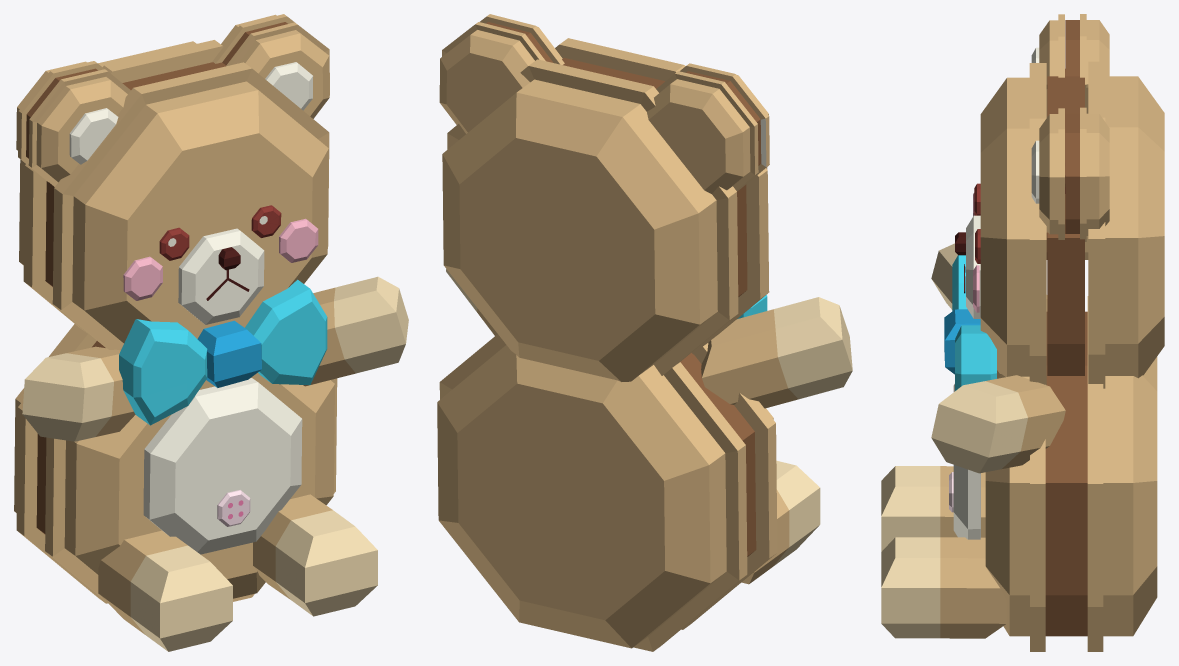
Rendered from st1_2 block.fbx.
The picture shows the model from 3 angles, left to right: view 1: azimuth 30°, elevation 25°; view 2: azimuth 150°, elevation 25°; view 3: azimuth 270°, elevation 25°; orthographic projection. The views are drawn at different scales.
Visible parts, largest first — view 1: st1_2_block, st1_2_block_ribon, st1_2_block_L_leg, st1_2_block_R_leg, st1_2_block_R_ear, st1_2_block_L_arm, st1_2_block_R_arm, st1_2_block_L_ear, st1_2_block_head_ad1, st1_2_block_L_head_ad2, st1_2_block_R_head_ad2, st1_2_block__body_ad2 (+2 smaller); view 2: st1_2_block, st1_2_block_L_arm, st1_2_block_R_ear, st1_2_block_L_ear, st1_2_block_L_leg; view 3: st1_2_block, st1_2_block_R_leg, st1_2_block_R_arm, st1_2_block_L_ear, st1_2_block_L_leg, st1_2_block_R_ear, st1_2_block_ribon, st1_2_block_L_arm, st1_2_block_head_ad1.
Boxes of the visible parts, left/top/right/bottom form: st1_2_block: left=14, top=40, right=337, bottom=603; st1_2_block_ribon: left=119, top=279, right=327, bottom=425; st1_2_block_L_leg: left=98, top=530, right=232, bottom=651; st1_2_block_R_leg: left=253, top=494, right=377, bottom=616; st1_2_block_R_ear: left=16, top=61, right=130, bottom=186; st1_2_block_L_arm: left=22, top=346, right=135, bottom=441; st1_2_block_R_arm: left=303, top=276, right=408, bottom=386; st1_2_block_L_ear: left=212, top=14, right=329, bottom=118; st1_2_block_head_ad1: left=178, top=228, right=264, bottom=324; st1_2_block_L_head_ad2: left=123, top=256, right=162, bottom=300; st1_2_block_R_head_ad2: left=279, top=218, right=318, bottom=262; st1_2_block__body_ad2: left=217, top=490, right=250, bottom=526; st1_2_block: left=437, top=38, right=777, bottom=651; st1_2_block_L_arm: left=701, top=297, right=852, bottom=408; st1_2_block_R_ear: left=647, top=63, right=769, bottom=193; st1_2_block_L_ear: left=439, top=14, right=564, bottom=133; st1_2_block_L_leg: left=741, top=460, right=820, bottom=584; st1_2_block: left=953, top=61, right=1164, bottom=651; st1_2_block_R_leg: left=881, top=537, right=1006, bottom=638; st1_2_block_R_arm: left=931, top=375, right=1065, bottom=473; st1_2_block_L_ear: left=1031, top=107, right=1109, bottom=241; st1_2_block_L_leg: left=881, top=466, right=985, bottom=551; st1_2_block_R_ear: left=1031, top=14, right=1109, bottom=117; st1_2_block_ribon: left=944, top=255, right=996, bottom=390; st1_2_block_L_arm: left=931, top=243, right=1047, bottom=311; st1_2_block_head_ad1: left=966, top=215, right=980, bottom=318.
Size of the model in its own units: 697 by 945 by 439.
Materials: 1 (1 with a texture image).
